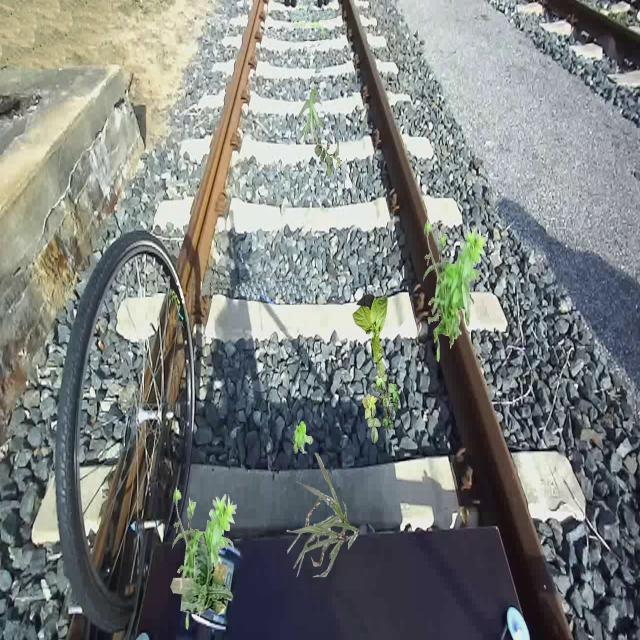Plant: (172, 486, 237, 630), (423, 219, 488, 362), (287, 453, 360, 578), (170, 532, 234, 615), (352, 294, 388, 378), (362, 370, 400, 443), (298, 89, 324, 146), (315, 138, 342, 179), (293, 421, 314, 454)
